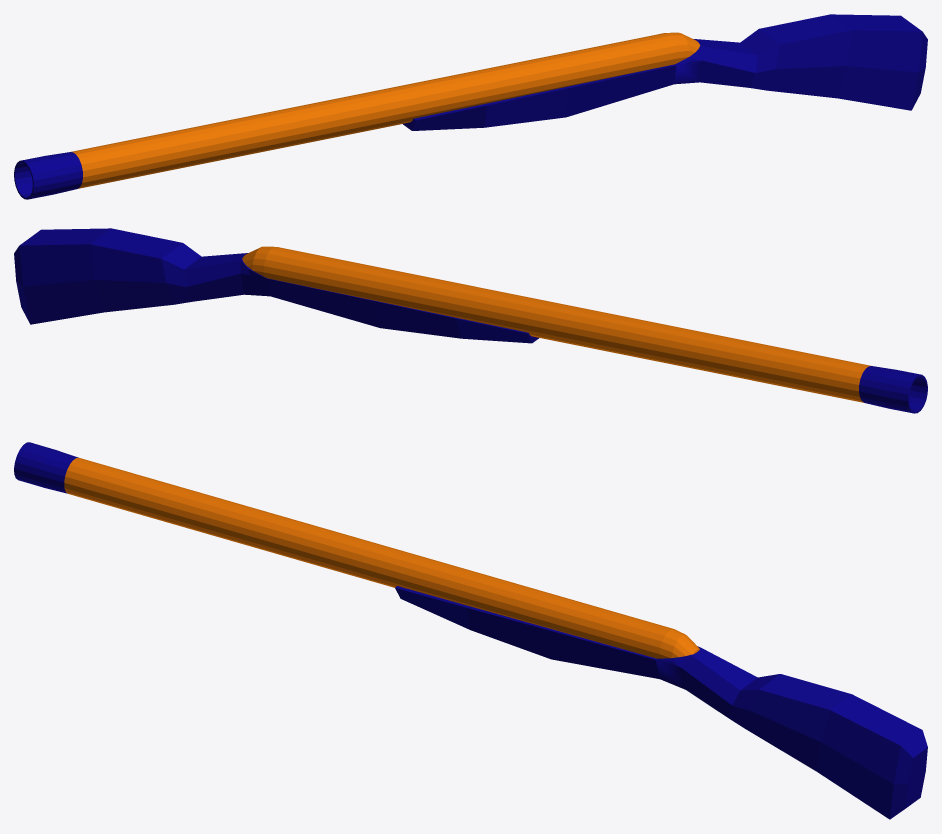
Rendered from Rifle_v1.fbx.
3 renders of one model, top to bottom at view 1: azimuth 30°, elevation 25°; view 2: azimuth 150°, elevation 25°; view 3: azimuth 330°, elevation 25°, orthographic.
Parts seen in each view (by area): view 1: Cylinder; view 2: Cylinder; view 3: Cylinder.
Part boxes in pixels (<box>): Cylinder: <box>14,14,927,199</box>; Cylinder: <box>14,228,927,413</box>; Cylinder: <box>14,442,927,819</box>.
Size of the model in its own units: 194 by 31.88 by 9.7.
